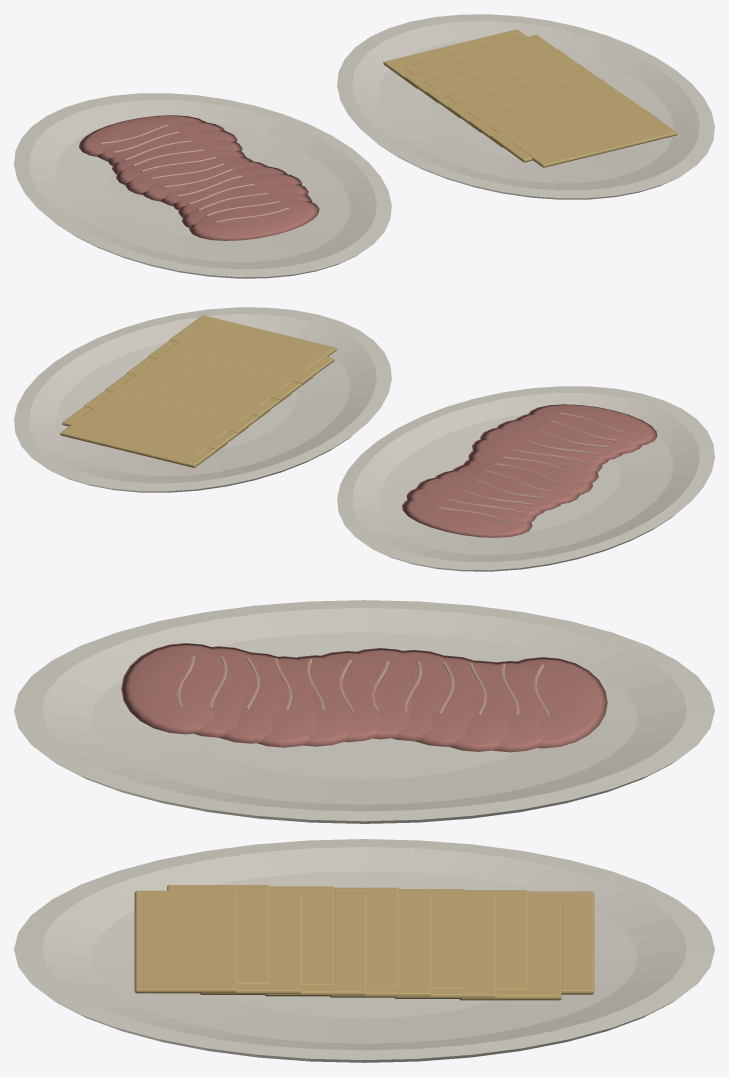
The model's file is ham.glb.
3 renders of one model, top to bottom at view 1: azimuth 30°, elevation 25°; view 2: azimuth 150°, elevation 25°; view 3: azimuth 270°, elevation 25°, orthographic. The views are drawn at different scales.
Visible parts, largest first — view 1: ham; view 2: ham; view 3: ham.
Part boxes in pixels (x1,y1,x2,y2): ham: (14,14,714,278); ham: (14,307,714,571); ham: (14,600,714,1062).
Size of the model in its own units: 1.01 by 0.0446 by 0.6485.
